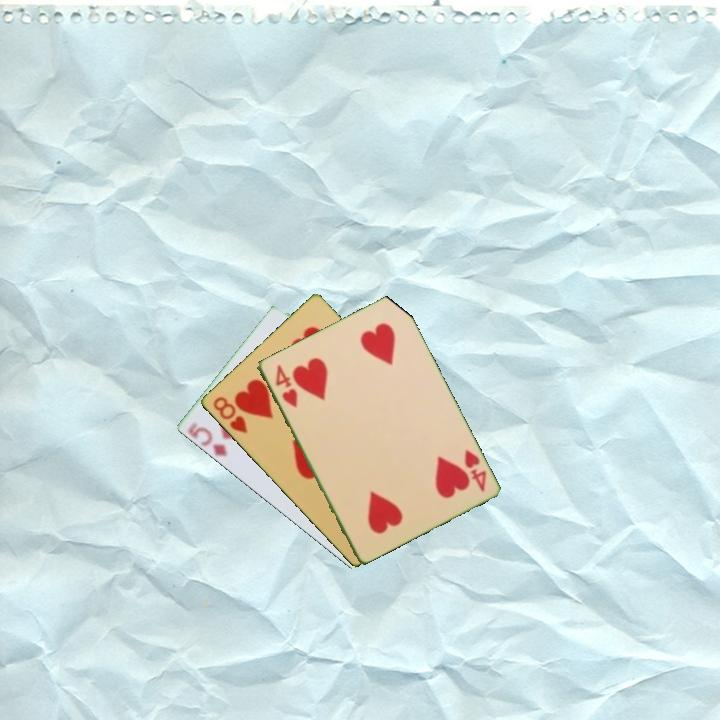4h: (271, 361, 300, 411), (460, 446, 489, 494)
5d: (184, 419, 229, 460)
8h: (209, 393, 250, 437)
